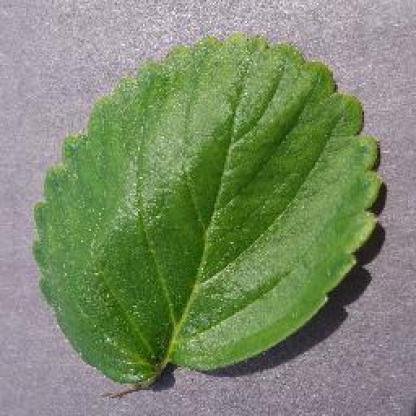healthy: (15, 21, 398, 401)
